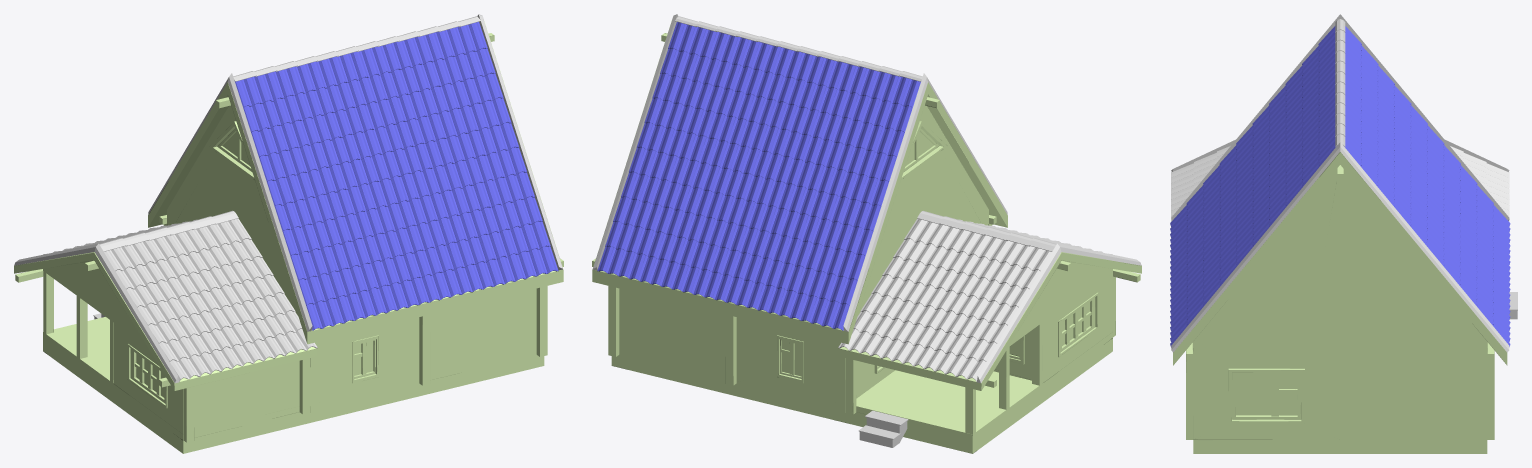
The model's file is Home3.fbx.
3 views of the same model, side by side, from view 1: azimuth 30°, elevation 25°; view 2: azimuth 150°, elevation 25°; view 3: azimuth 270°, elevation 25° (orthographic). The views are drawn at different scales.
Visible parts, largest first — view 1: Cube.004, Cube, Cube.001, Cube.003, Cube.005, Cube.002, Cube.006; view 2: Cube.004, Cube, Cube.001, Cube.003, Cube.005, Cube.002, Cube.007, Cube.006; view 3: Cube, Cube.004, Cube.003, Cube.001, Cube.002, Cube.005.
Boxes of the visible parts, <box> form: Cube.004: <box>234,22,558,330</box>; Cube: <box>14,22,563,453</box>; Cube.001: <box>43,218,317,381</box>; Cube.003: <box>148,14,562,331</box>; Cube.005: <box>14,243,178,383</box>; Cube.002: <box>233,16,480,81</box>; Cube.006: <box>99,210,238,251</box>; Cube.004: <box>597,22,920,330</box>; Cube: <box>592,20,1141,453</box>; Cube.001: <box>838,218,1112,381</box>; Cube.003: <box>592,14,1007,331</box>; Cube.005: <box>977,243,1141,383</box>; Cube.002: <box>675,16,922,81</box>; Cube.007: <box>858,410,908,447</box>; Cube.006: <box>917,211,1056,251</box>; Cube: <box>1173,152,1507,453</box>; Cube.004: <box>1170,26,1510,347</box>; Cube.003: <box>1171,14,1509,352</box>; Cube.001: <box>1171,146,1509,243</box>; Cube.002: <box>1335,19,1345,147</box>; Cube.005: <box>1171,139,1509,171</box>.
Bounding box in the file's own units: 817 × 578 × 577.
Materials: 2 (2 with a texture image).
